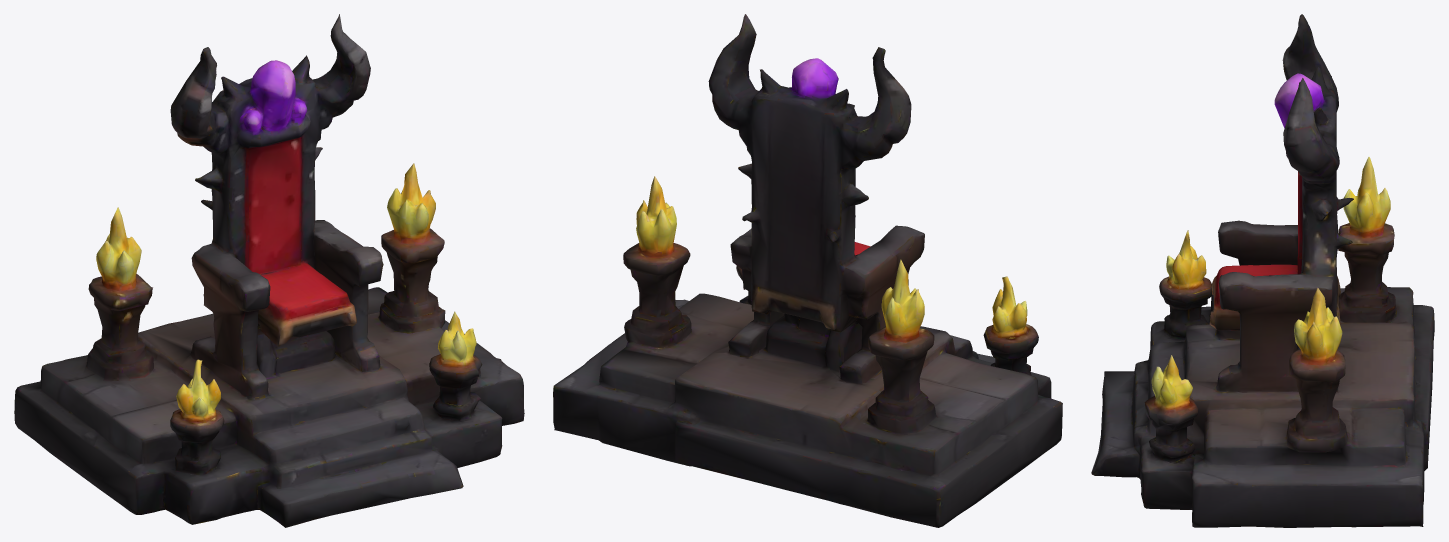
The model's file is dthrone.glb.
The picture shows the model from 3 angles, left to right: view 1: azimuth 30°, elevation 25°; view 2: azimuth 150°, elevation 25°; view 3: azimuth 270°, elevation 25°; orthographic projection. The views are drawn at different scales.
Parts seen in each view (by area): view 1: tripo_node_c40365b8; view 2: tripo_node_c40365b8; view 3: tripo_node_c40365b8.
Boxes of the visible parts, left/top/right/bottom form: tripo_node_c40365b8: left=14, top=14, right=524, bottom=527; tripo_node_c40365b8: left=553, top=14, right=1062, bottom=527; tripo_node_c40365b8: left=1091, top=14, right=1434, bottom=527.
Bounding box in the file's own units: 99.76 × 98.95 × 78.05.
1 material, 1 textured.
